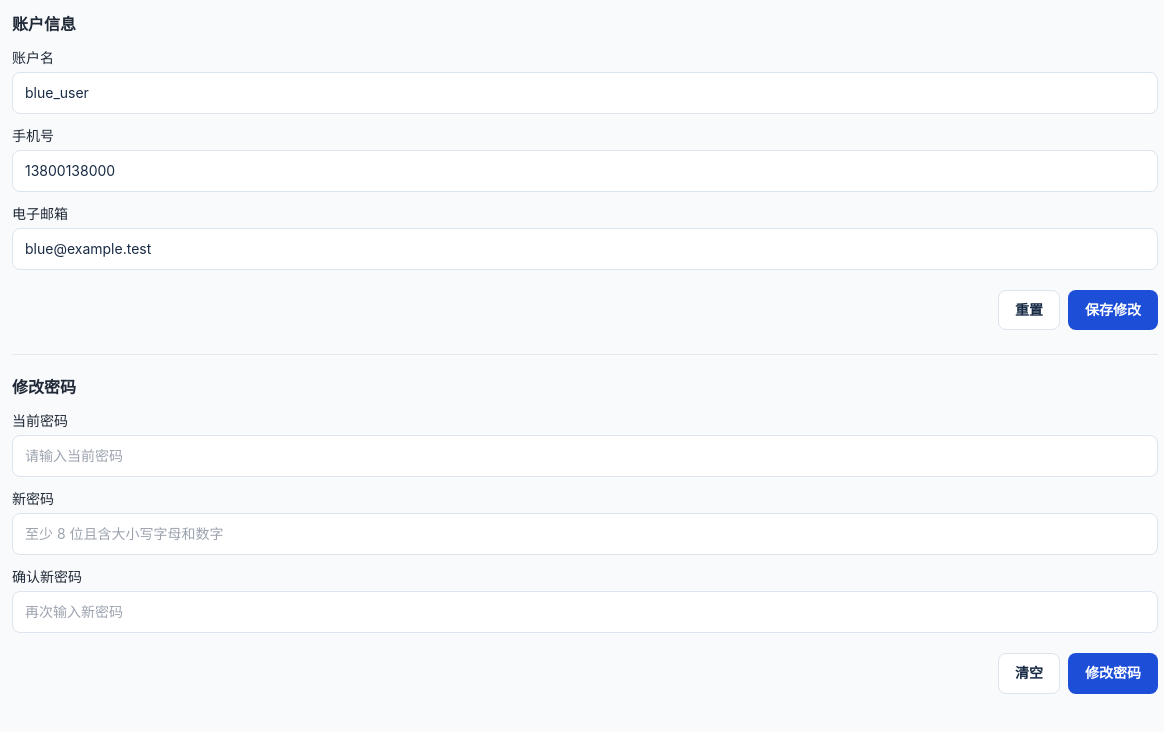
it: account form with the real API client and auth store › sends a PATCH payload without id and accepts the canonical UserDto response
Replace the text in the field with id "settings-account-username" with "saved_user" at (585, 93), box [12,72,1158,114]
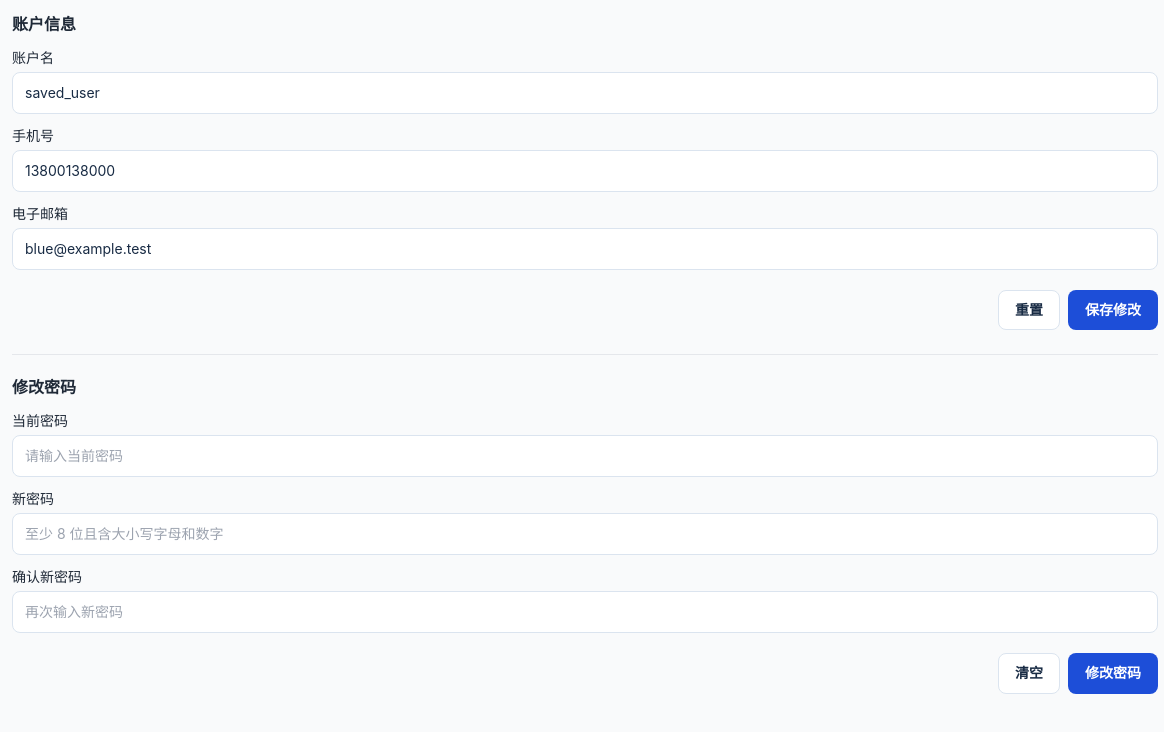
Click the button "保存修改".
click(1113, 310)  # box [1068,290,1158,330]
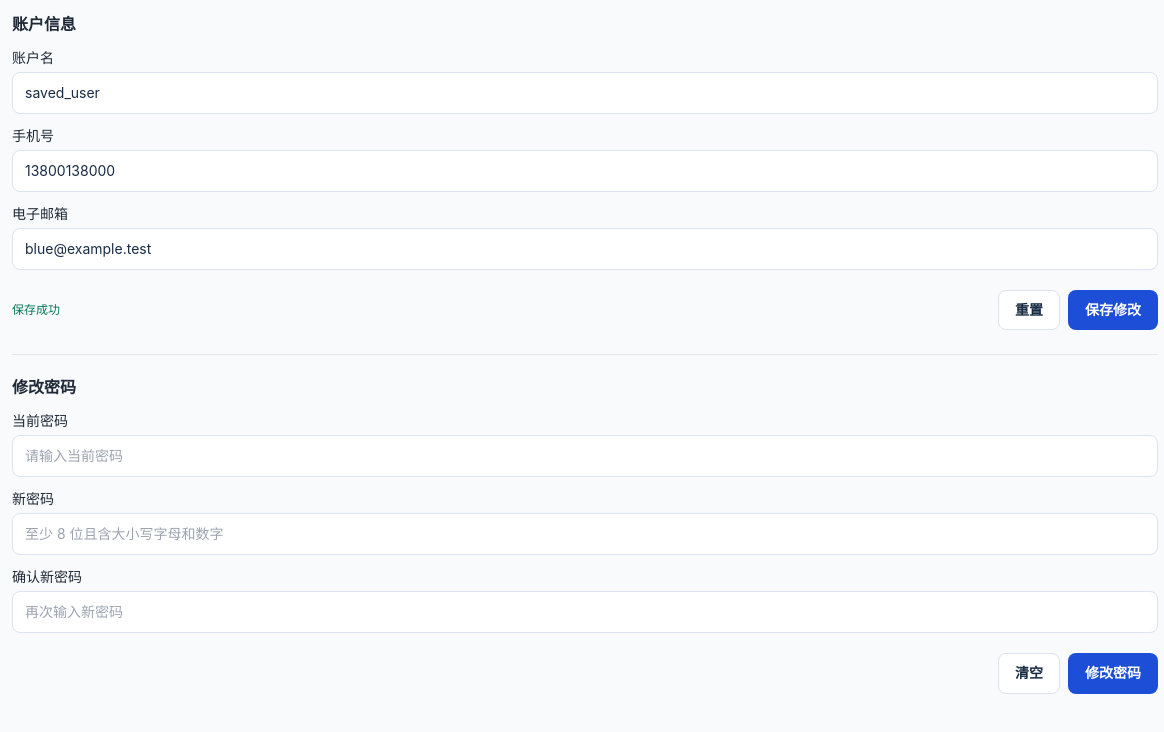
expect the text "保存成功" is shown: met, box [12,302,60,318]
